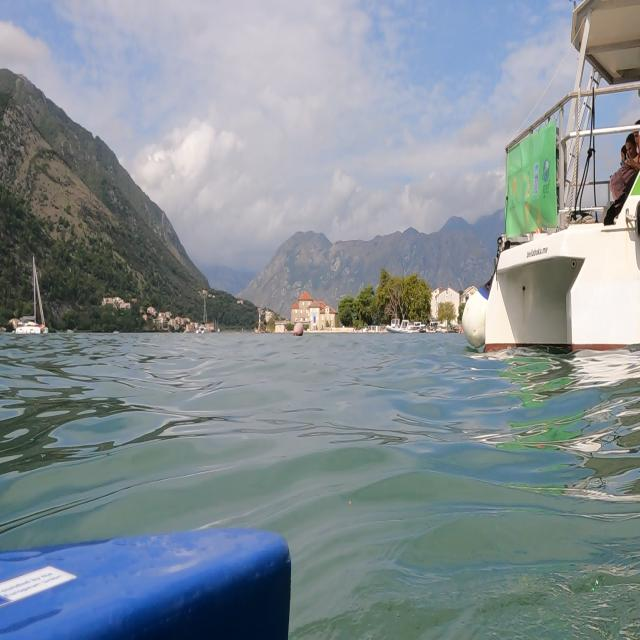boat: (462, 2, 638, 357), (8, 239, 52, 351), (384, 314, 428, 344)
buoy: (289, 317, 309, 339)
